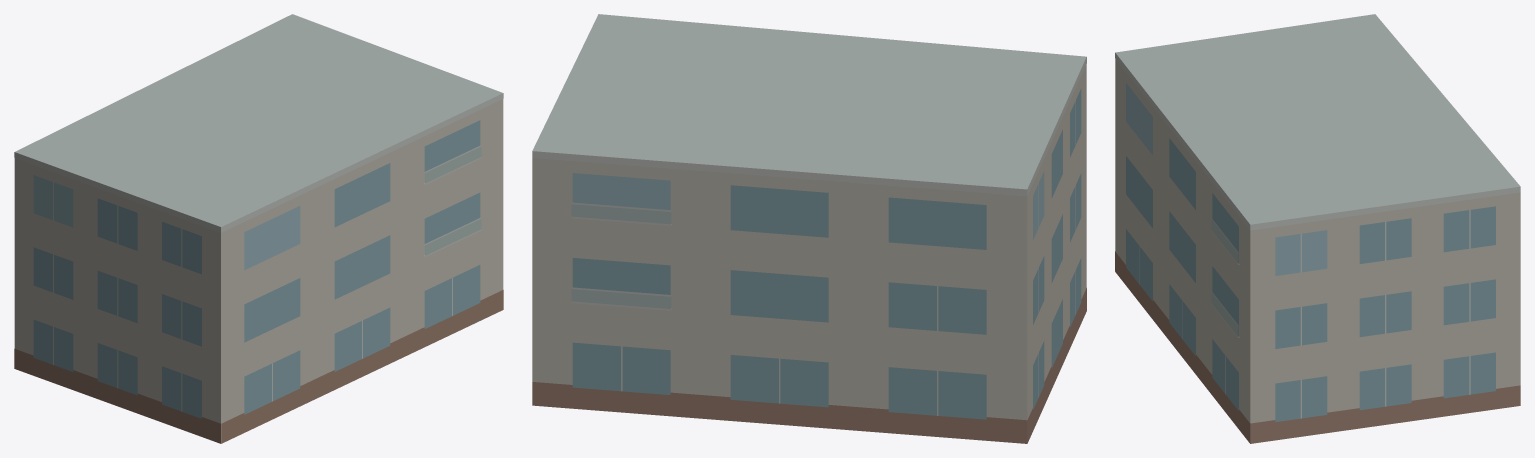
The model's file is survey-upis-32940401.glb.
3 renders of one model, left to right at view 1: azimuth 30°, elevation 25°; view 2: azimuth 150°, elevation 25°; view 3: azimuth 270°, elevation 25°, orthographic. The views are drawn at different scales.
Parts seen in each view (by area): view 1: survey-upis-32940401.tmp; view 2: survey-upis-32940401.tmp; view 3: survey-upis-32940401.tmp.
Part boxes in pixels (x1,y1,x2,y2): survey-upis-32940401.tmp: (14, 14, 503, 443); survey-upis-32940401.tmp: (532, 14, 1086, 443); survey-upis-32940401.tmp: (1115, 14, 1520, 443).
Size of the model in its own units: 18.88 by 9.15 by 15.35.
